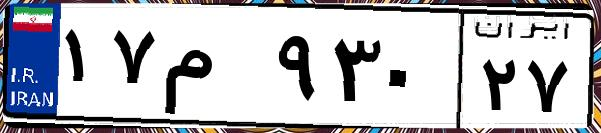0: (385, 28, 445, 110)
1: (57, 26, 110, 100)
2: (475, 38, 525, 113)
3: (330, 28, 385, 110)
7: (525, 38, 570, 115), (110, 28, 158, 98)
9: (270, 28, 330, 110)
م: (158, 20, 270, 120)
